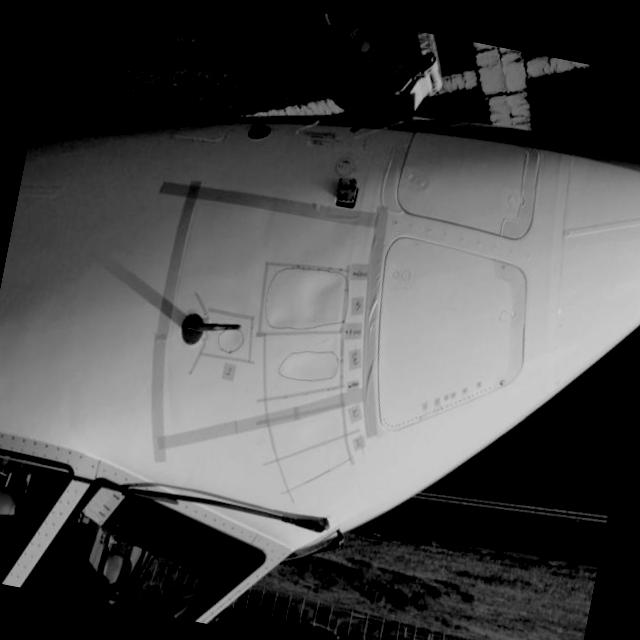dent: (266, 266, 350, 336), (260, 342, 338, 388), (220, 324, 246, 353)
